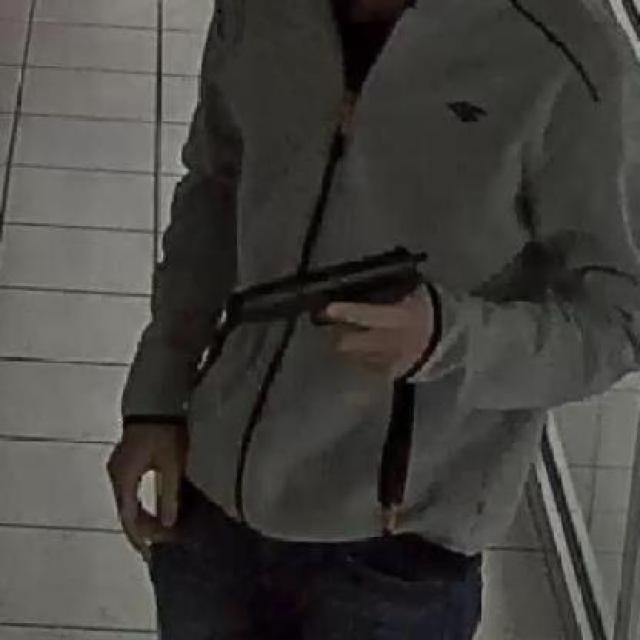gun: (219, 242, 436, 381)
